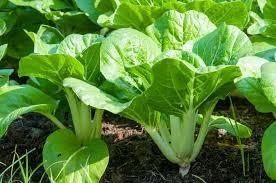Healthy-Pechay: (0, 0, 276, 118), (41, 123, 119, 183)
